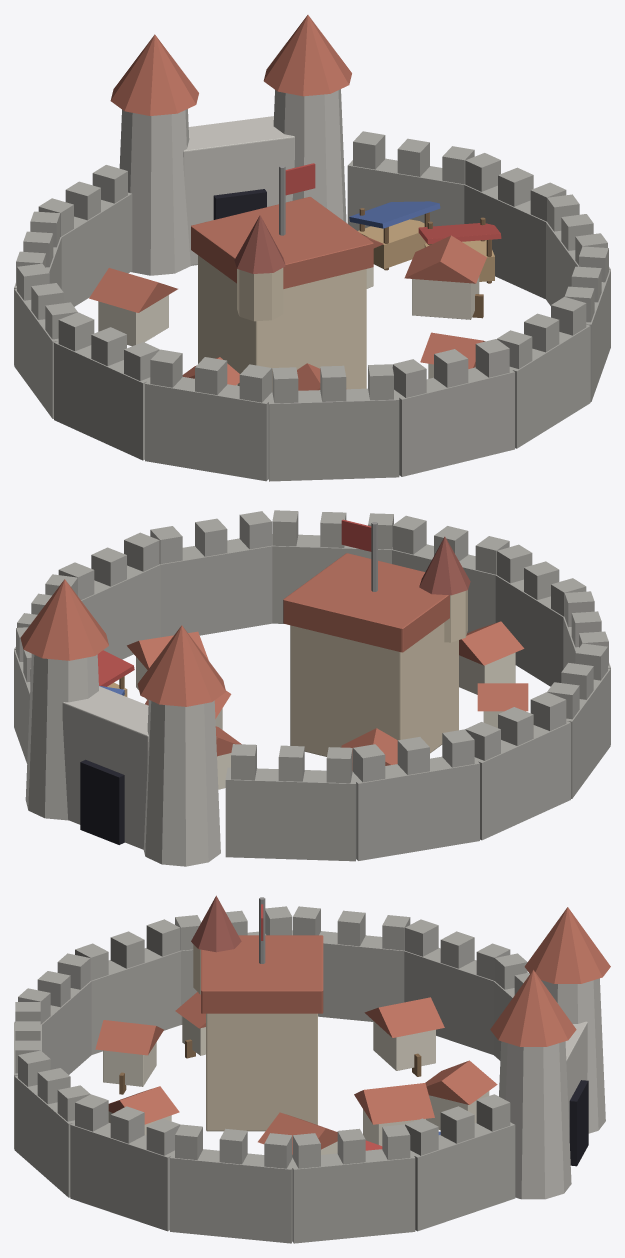
The model's file is city.glb.
3 renders of one model, top to bottom at view 1: azimuth 30°, elevation 25°; view 2: azimuth 150°, elevation 25°; view 3: azimuth 270°, elevation 25°, orthographic. The views are drawn at different scales.
Visible parts, largest first — view 1: keep, wall9, wall8, gtower_0.15, wall10, keep_roof, gate_block, wall7, wall11, gtower_-0.15, wall4, wall0 (+51 smaller); view 2: keep, gtower_0.15, wall4, keep_roof, wall5, wall12, gate_block, wall6, gtower_-0.15, wall9, wall13, gtroof_0.15 (+46 smaller); view 3: keep, wall0, wall13, gtower_-0.15, keep_roof, wall1, wall12, wall5, wall6, wall8, wall11, gtroof_-0.15 (+52 smaller).
Part boxes in pixels (x1,y1,x2,y2): keep: (198, 255, 366, 391); wall9: (268, 388, 399, 481); wall8: (145, 377, 272, 481); gtower_0.15: (119, 109, 190, 275); wall10: (395, 367, 514, 476); keep_roof: (191, 197, 373, 288); gate_block: (183, 116, 294, 265); wall7: (54, 341, 150, 460); wall11: (509, 324, 590, 448); gtower_-0.15: (273, 89, 346, 222); wall4: (60, 192, 132, 306); wall0: (464, 184, 547, 299); keep: (290, 622, 458, 756); gtower_0.15: (143, 700, 220, 866); wall4: (225, 767, 356, 861); keep_roof: (283, 553, 449, 652); wall5: (351, 756, 479, 860); wall12: (158, 538, 274, 637); gate_block: (62, 686, 148, 849); wall6: (474, 721, 570, 840); gtower_-0.15: (25, 654, 98, 820); wall9: (494, 574, 563, 686); wall13: (81, 564, 161, 659); gtroof_0.15: (137, 625, 225, 706); keep: (206, 1013, 317, 1131); wall0: (290, 1149, 415, 1243); wall13: (170, 1149, 294, 1243); gtower_-0.15: (499, 1041, 571, 1199); keep_roof: (201, 935, 323, 1013); wall1: (412, 1122, 515, 1231); wall12: (70, 1122, 174, 1231); wall5: (402, 948, 494, 1054); wall6: (292, 930, 404, 1021); wall8: (91, 948, 180, 1054); wall11: (14, 1076, 74, 1197); gtroof_-0.15: (490, 970, 576, 1046).
Bounding box in the file's own units: 1.12 × 0.465 × 1.17.
